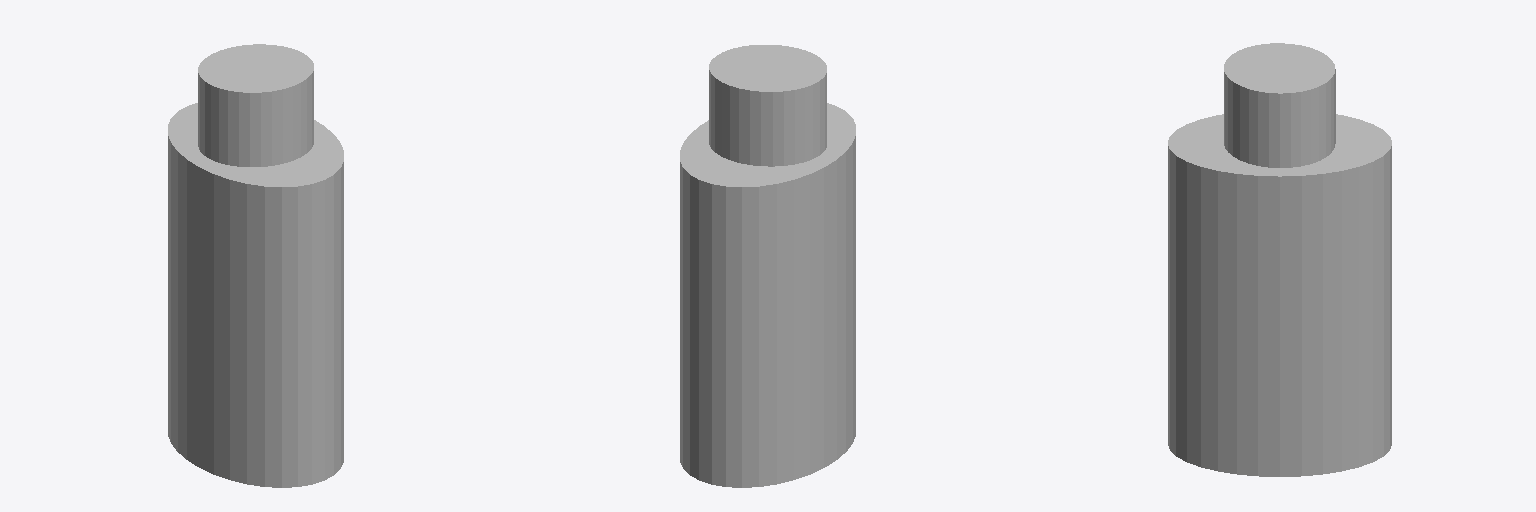
Rendered from player.obj.
The picture shows the model from 3 angles: view 1: azimuth 30°, elevation 25°; view 2: azimuth 150°, elevation 25°; view 3: azimuth 270°, elevation 25°; orthographic projection.
Visible parts, largest first — view 1: Cylinder, Cylinder.001; view 2: Cylinder, Cylinder.001; view 3: Cylinder, Cylinder.001.
Boxes of the visible parts, box(x1,y1,x2,y2) form: Cylinder: box(168, 103, 343, 487); Cylinder.001: box(198, 44, 313, 166); Cylinder: box(680, 103, 855, 487); Cylinder.001: box(709, 45, 826, 166); Cylinder: box(1168, 114, 1391, 476); Cylinder.001: box(1224, 43, 1335, 167).
Bounding box in the file's own units: 0.9569 × 2.5 × 1.36.